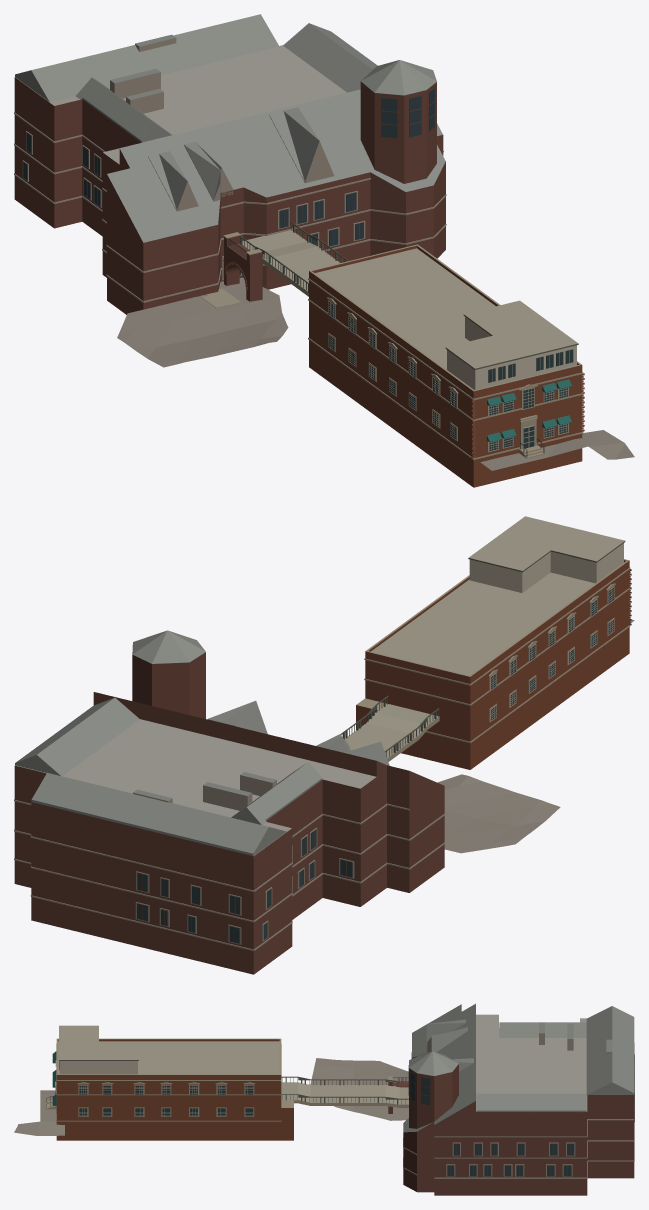
The model's file is site.glb.
3 renders of one model, top to bottom at view 1: azimuth 30°, elevation 25°; view 2: azimuth 150°, elevation 25°; view 3: azimuth 270°, elevation 25°, orthographic. The views are drawn at different scales.
Parts seen in each view (by area): view 1: roof-f42d2ea3, roof-399a0551, cascade-courtyard, cascade-link; view 2: roof-f42d2ea3, roof-399a0551, cascade-courtyard, cascade-link; view 3: roof-f42d2ea3, roof-399a0551, cascade-courtyard, cascade-link.
Boxes of the visible parts, box(x1,y1,x2,y2) form: roof-f42d2ea3: box(14, 14, 446, 314); roof-399a0551: box(308, 244, 584, 487); cascade-courtyard: box(117, 277, 634, 470); cascade-link: box(223, 221, 348, 301); roof-f42d2ea3: box(14, 630, 445, 974); roof-399a0551: box(356, 516, 631, 769); cascade-courtyard: box(437, 619, 634, 853); cascade-link: box(341, 695, 439, 761); roof-f42d2ea3: box(403, 1003, 634, 1195); roof-399a0551: box(46, 1025, 293, 1140); cascade-courtyard: box(14, 1058, 408, 1135); cascade-link: box(281, 1076, 408, 1113).
Bounding box in the file's own units: 45.93 × 22.72 × 98.78.
